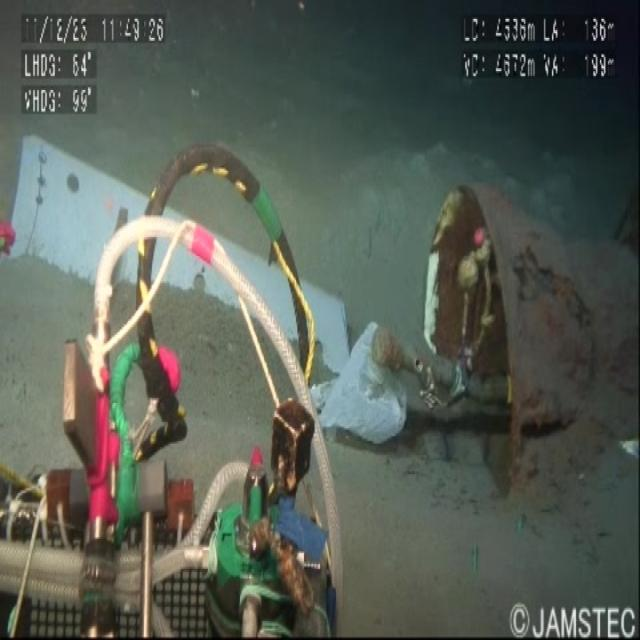Metal: (4, 109, 640, 448)
